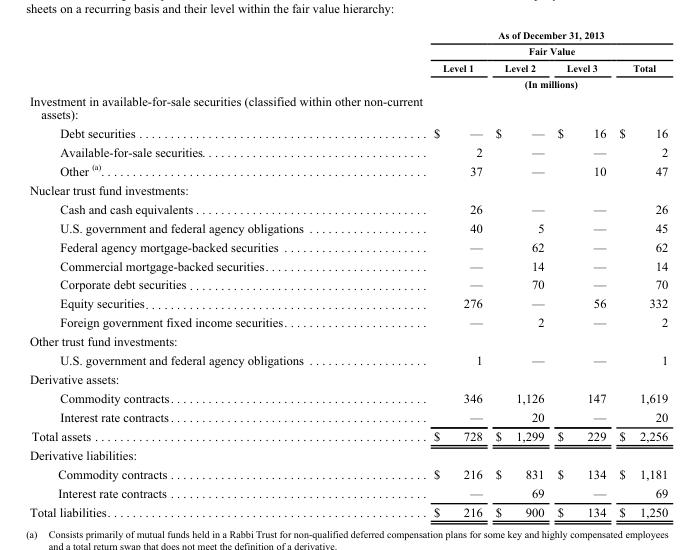table: (28, 28, 667, 518)
table column: (28, 28, 367, 518), (367, 28, 488, 518), (488, 28, 550, 518), (550, 28, 612, 518), (612, 28, 667, 518)
table column header: (28, 28, 667, 91)
table projected row header: (28, 91, 667, 123), (28, 331, 667, 350), (28, 369, 667, 388), (28, 445, 667, 464), (28, 180, 667, 198)
table row: (28, 91, 667, 123), (28, 28, 667, 58), (28, 160, 667, 180), (28, 123, 667, 142), (28, 198, 667, 217), (28, 217, 667, 236), (28, 236, 667, 255), (28, 255, 667, 274), (28, 274, 667, 293), (28, 293, 667, 312), (28, 312, 667, 331), (28, 331, 667, 350), (28, 350, 667, 369), (28, 369, 667, 388), (28, 388, 667, 407), (28, 407, 667, 426), (28, 426, 667, 445), (28, 445, 667, 464), (28, 464, 667, 483), (28, 142, 667, 160), (28, 180, 667, 198), (28, 483, 667, 501), (28, 58, 667, 75), (28, 501, 667, 518), (28, 75, 667, 91)
table spanning cell: (367, 28, 667, 58), (367, 75, 667, 91)
